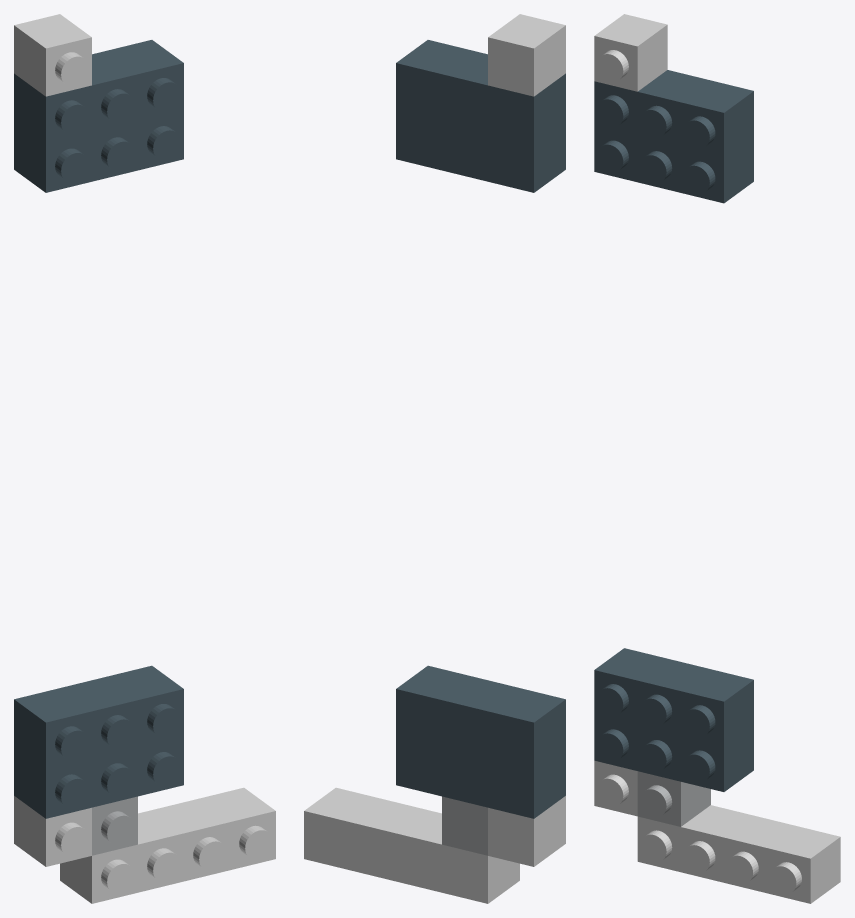
Rendered from current.glb.
The picture shows the model from 3 angles, left to right: view 1: azimuth 30°, elevation 25°; view 2: azimuth 150°, elevation 25°; view 3: azimuth 330°, elevation 25°; orthographic projection. The views are drawn at different scales.
Parts seen in each view (by area): view 1: world; view 2: world; view 3: world.
Part boxes in pixels (x1,y1,x2,y2): world: (14,14,275,903); world: (304,14,565,903); world: (594,14,840,903).
Size of the model in its own units: 40 by 144 by 11.4.
